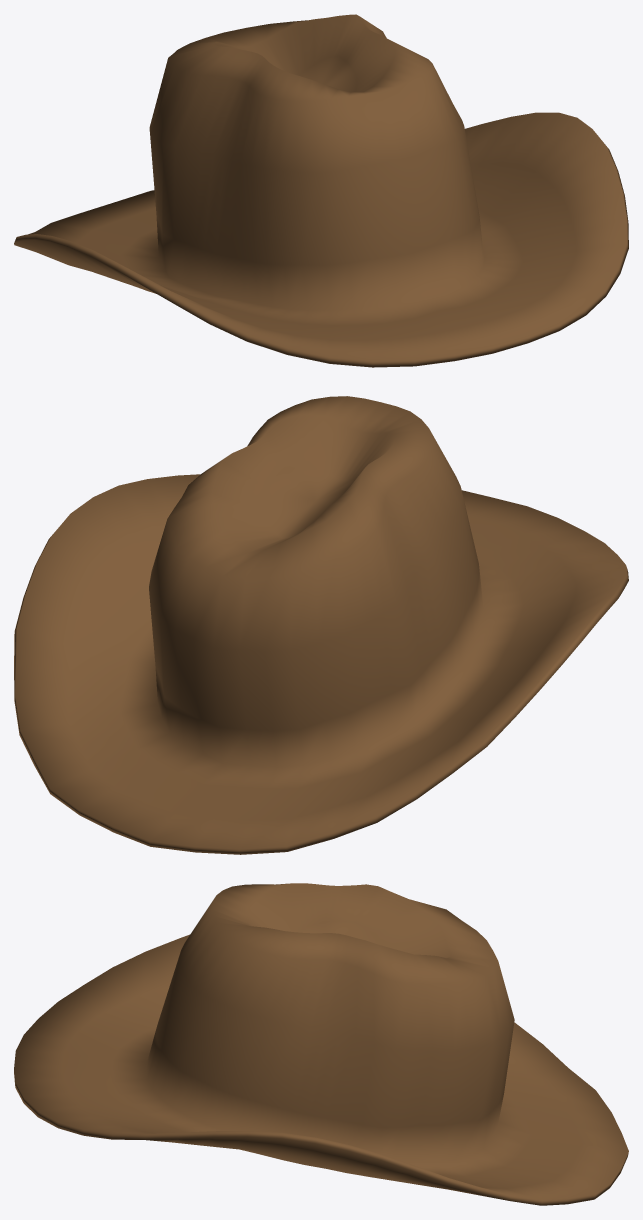
File: cowboy_hat.glb
3 views of the same model, one above another, from view 1: azimuth 30°, elevation 25°; view 2: azimuth 150°, elevation 25°; view 3: azimuth 270°, elevation 25° (orthographic). The views are drawn at different scales.
Visible parts, largest first — view 1: cowboy_hat; view 2: cowboy_hat; view 3: cowboy_hat.
Part boxes in pixels (x1=…): cowboy_hat: x1=14, y1=14, x2=628, y2=367; cowboy_hat: x1=14, y1=396, x2=628, y2=854; cowboy_hat: x1=14, y1=883, x2=628, y2=1205.
Bounding box in the file's own units: 0.3385 × 0.1744 × 0.3901.
